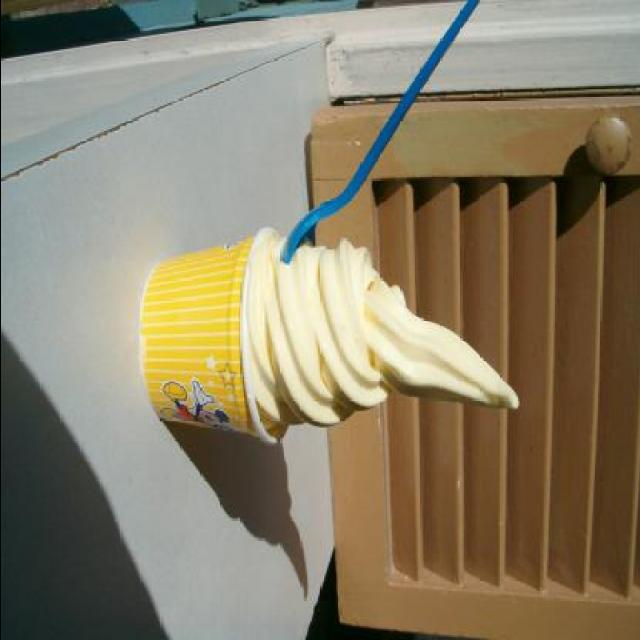Ice cream: (194, 204, 478, 456)
